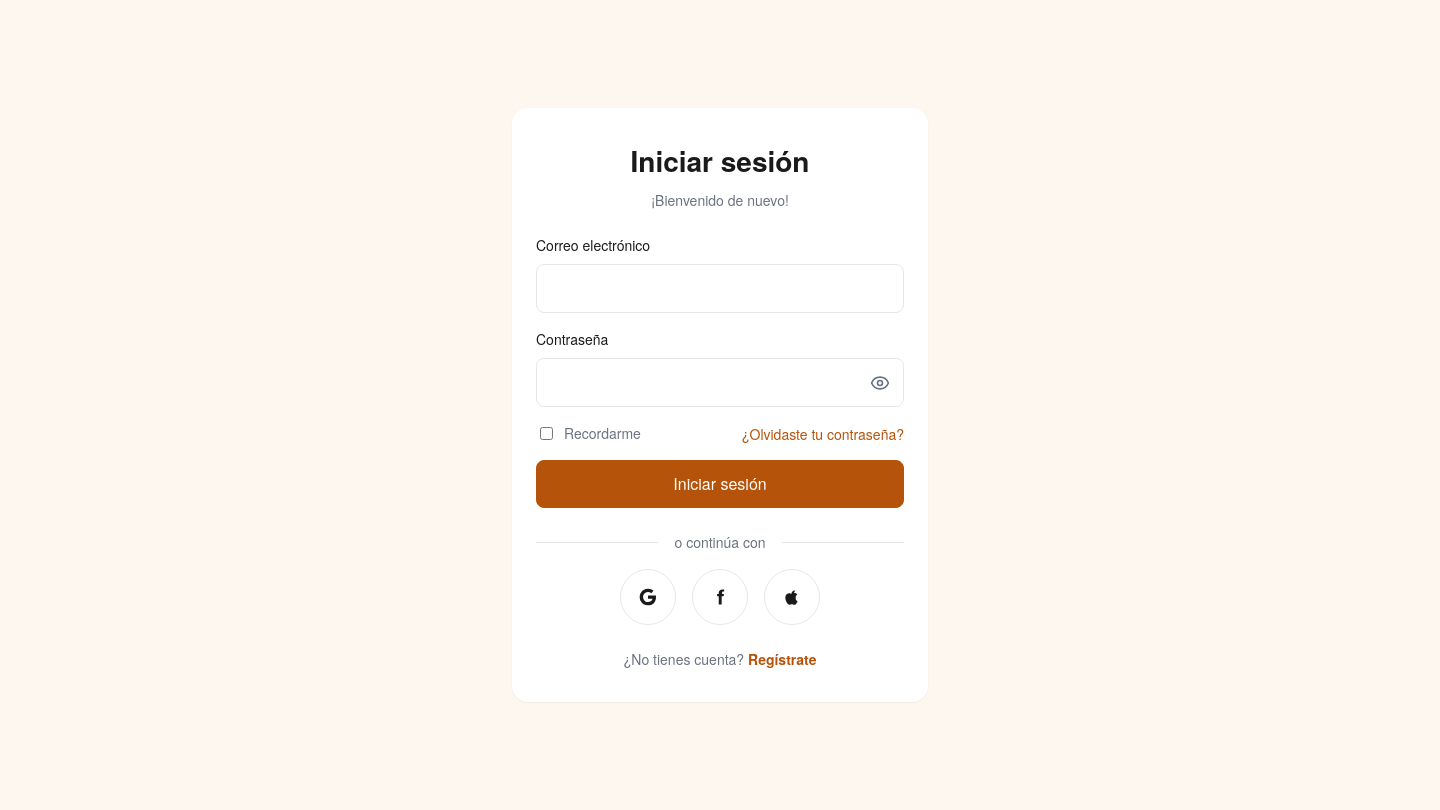
Scenario: pantalla de inicio de sesión › entra y deja la sesión iniciada en la pantalla de inicio
Type "erving@moica.test" into the field labelled "Correo electrónico".
click(720, 288); type("erving@moica.test")  # box [536,264,904,313]
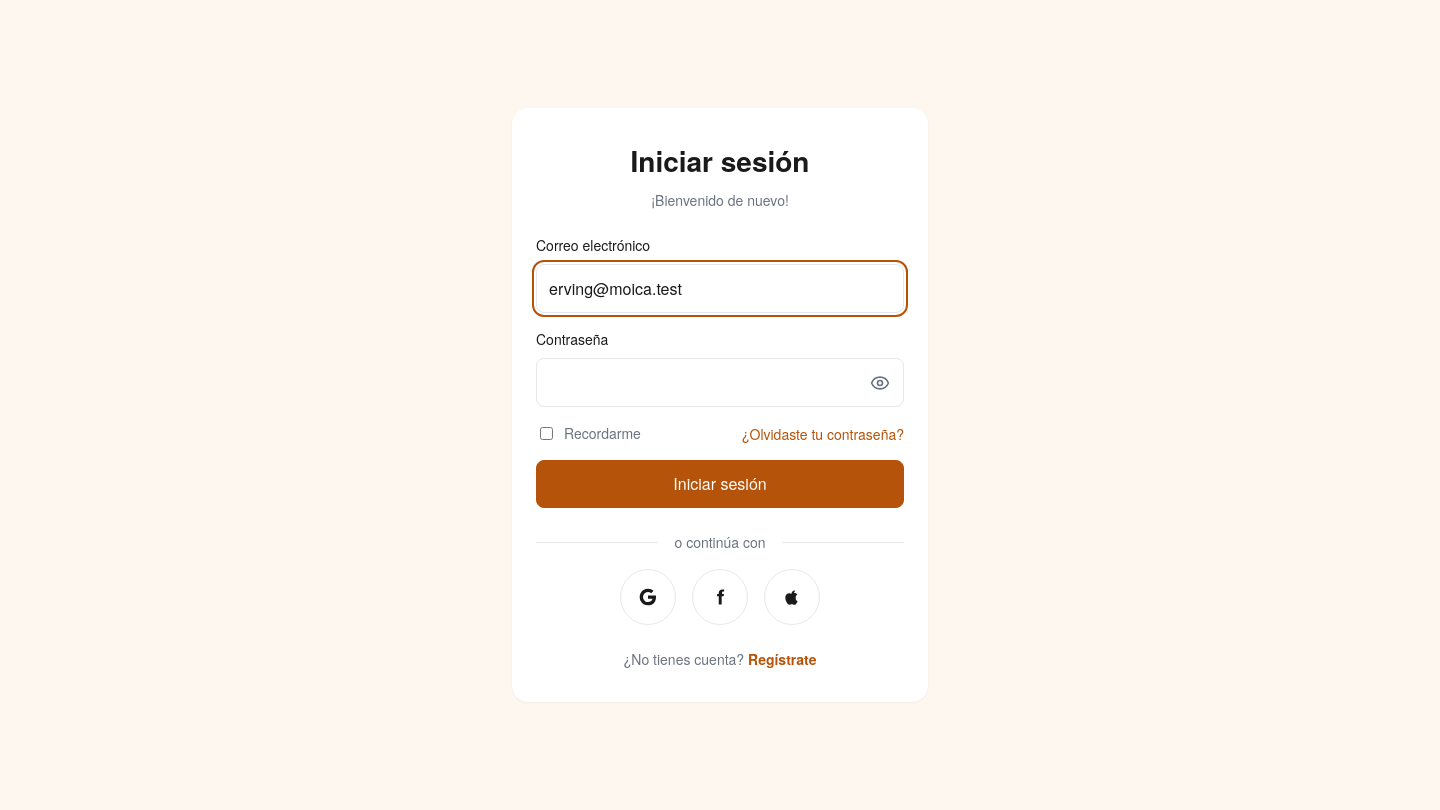
Type "Moica2026$segura" into the password field labelled "Contraseña".
click(720, 382); type("Moica2026$segura")  # box [536,358,904,407]
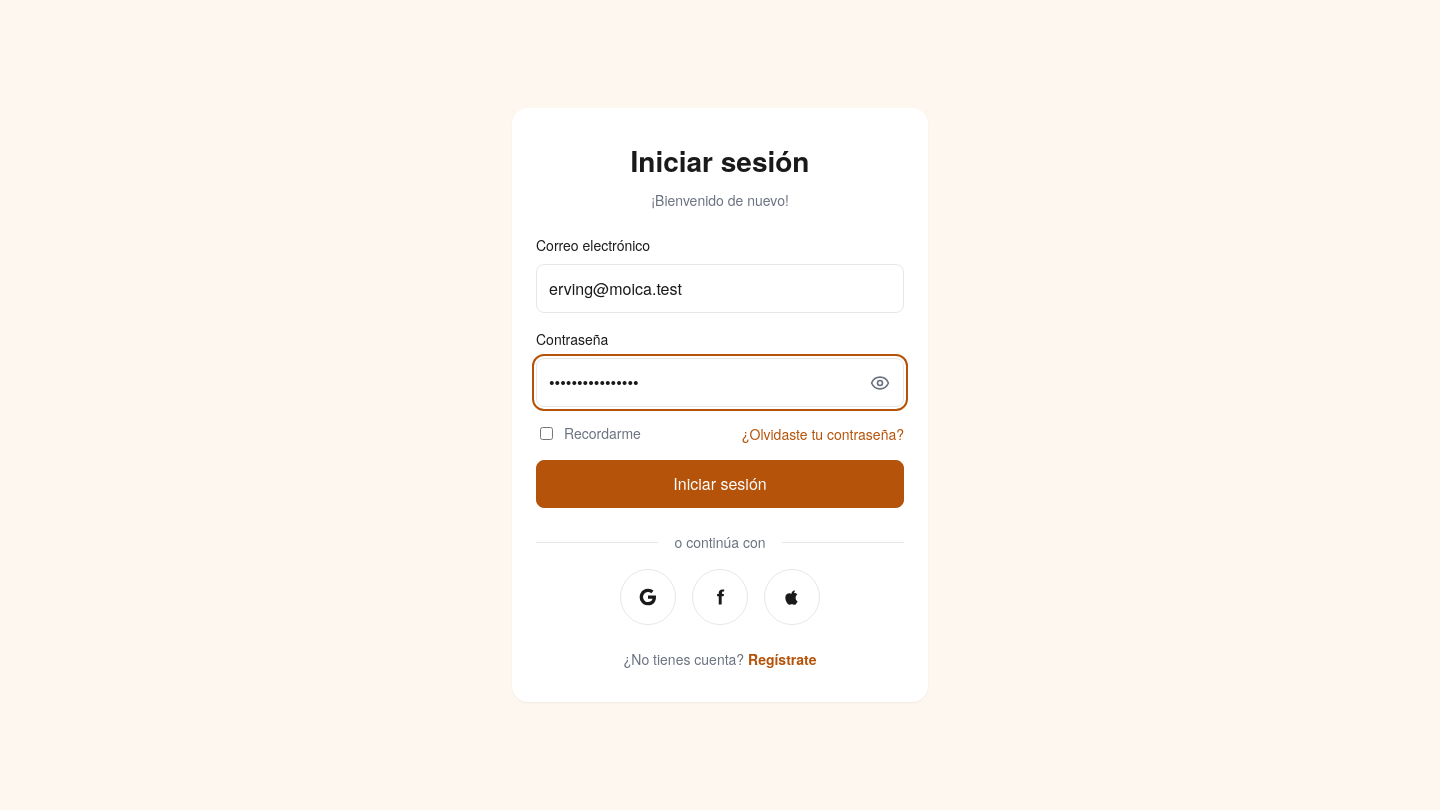
Click the button "Iniciar sesión".
click(720, 484)  # box [536,460,904,508]
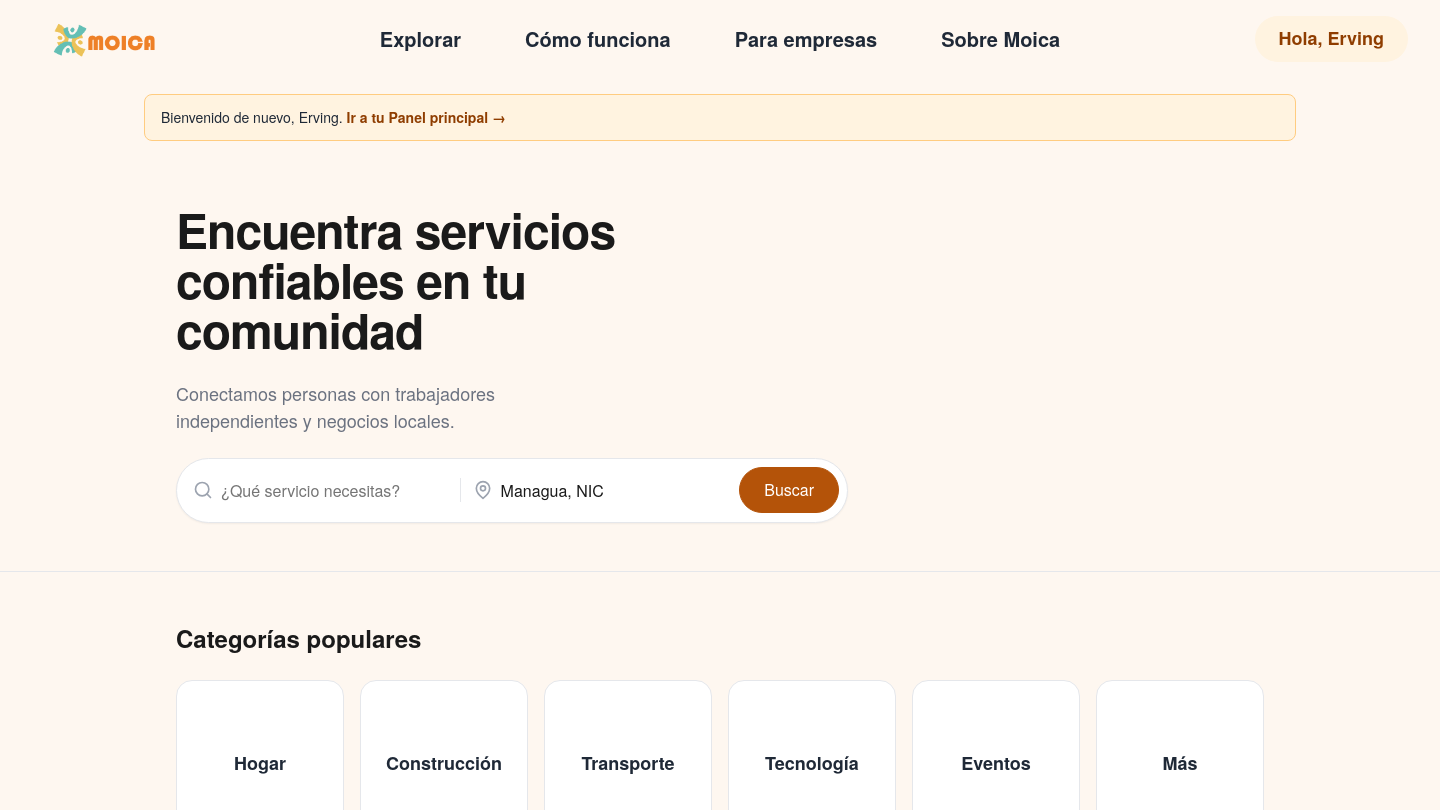
Check: the button "Hola, Erving" is shown, box [1255,16,1408,62]
Check: the link "Regístrate" is gone
